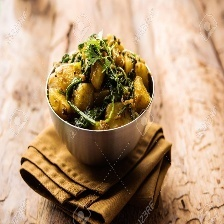sabzi: (45, 32, 154, 130)
